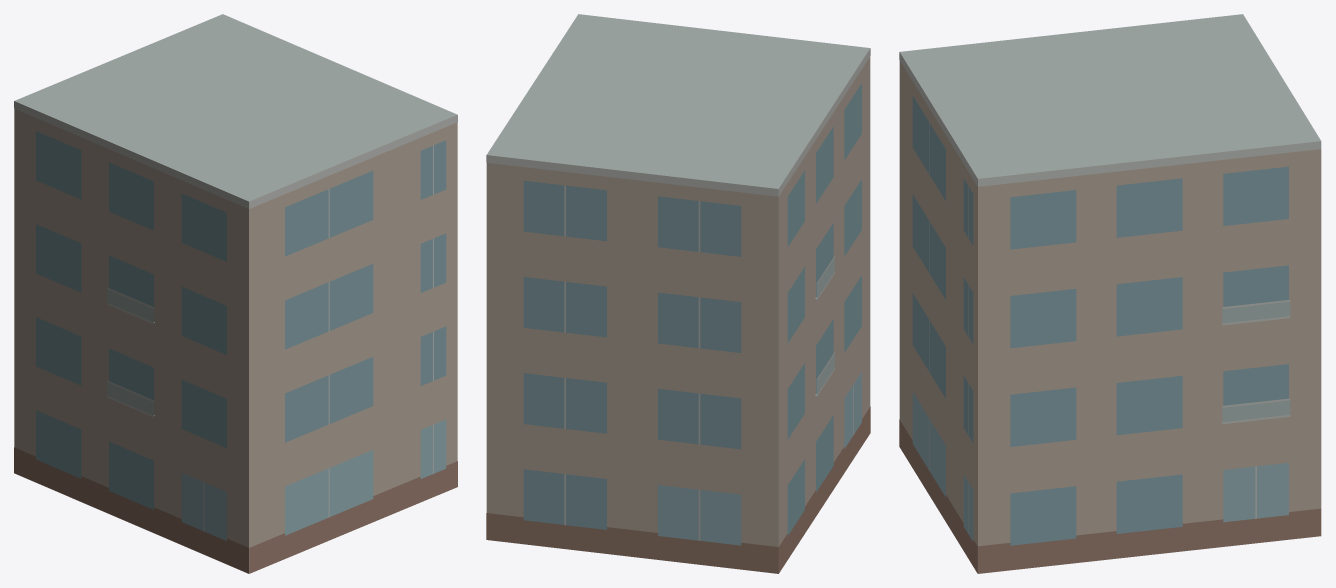
Rendered from residential-0600439a-998d-4984-b7a7-7086d52a3801.glb.
3 renders of one model, left to right at view 1: azimuth 30°, elevation 25°; view 2: azimuth 150°, elevation 25°; view 3: azimuth 270°, elevation 25°, orthographic. The views are drawn at different scales.
Parts seen in each view (by area): view 1: residential-0600439a-998d-4984-b7a7-7086d52a3801.tmp; view 2: residential-0600439a-998d-4984-b7a7-7086d52a3801.tmp; view 3: residential-0600439a-998d-4984-b7a7-7086d52a3801.tmp.
Boxes of the visible parts, x1,y1,x2,y2 form: residential-0600439a-998d-4984-b7a7-7086d52a3801.tmp: [14, 14, 457, 573]; residential-0600439a-998d-4984-b7a7-7086d52a3801.tmp: [486, 14, 870, 573]; residential-0600439a-998d-4984-b7a7-7086d52a3801.tmp: [899, 14, 1321, 573].
Size of the model in its own units: 10.94 by 12.2 by 11.82.
